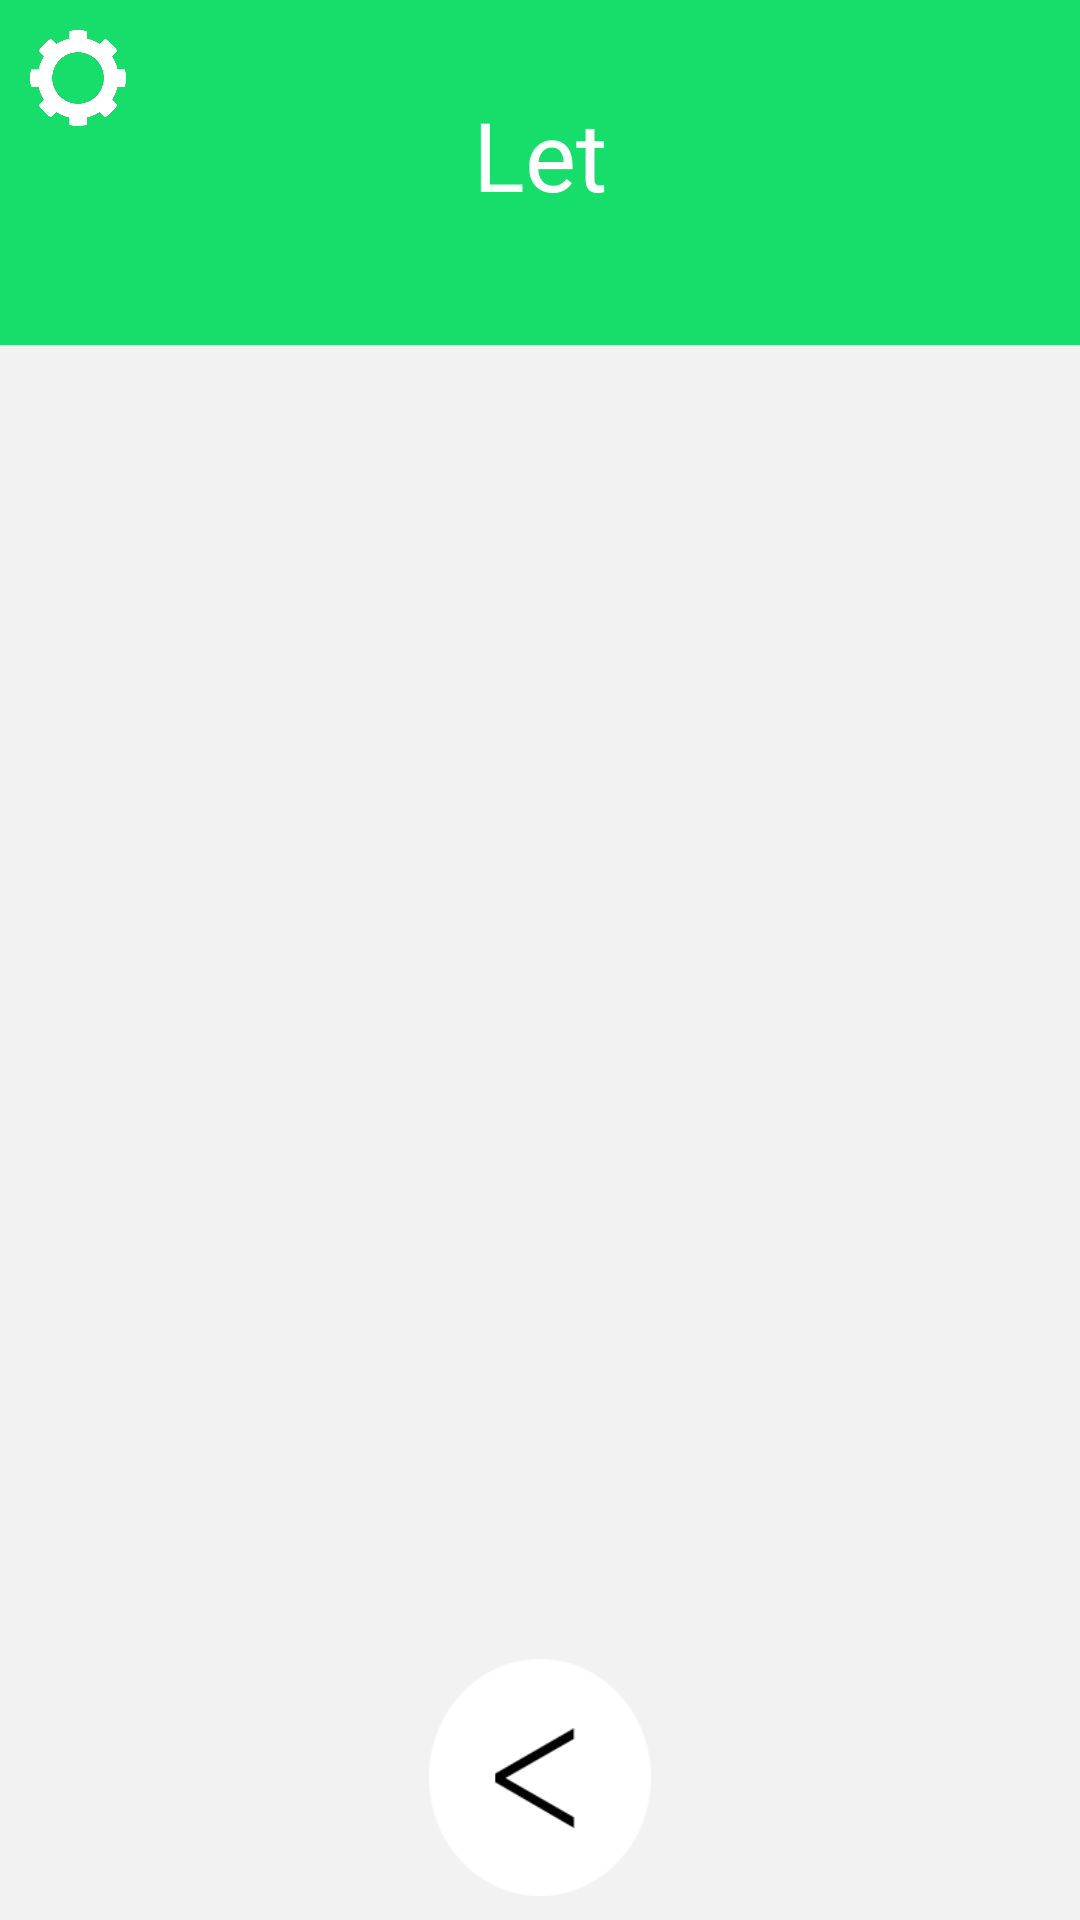

Icons on this 1080 × 1920 Android screen, each with the point to tap as (x=x, y=y):
cockwheelbtn: (x=78, y=78)
returnbutton: (x=540, y=1777)
